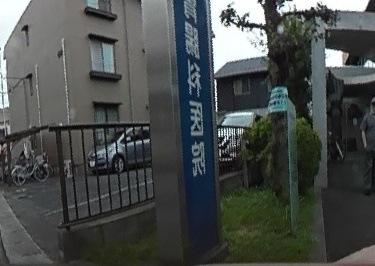person: (358, 96, 375, 198)
